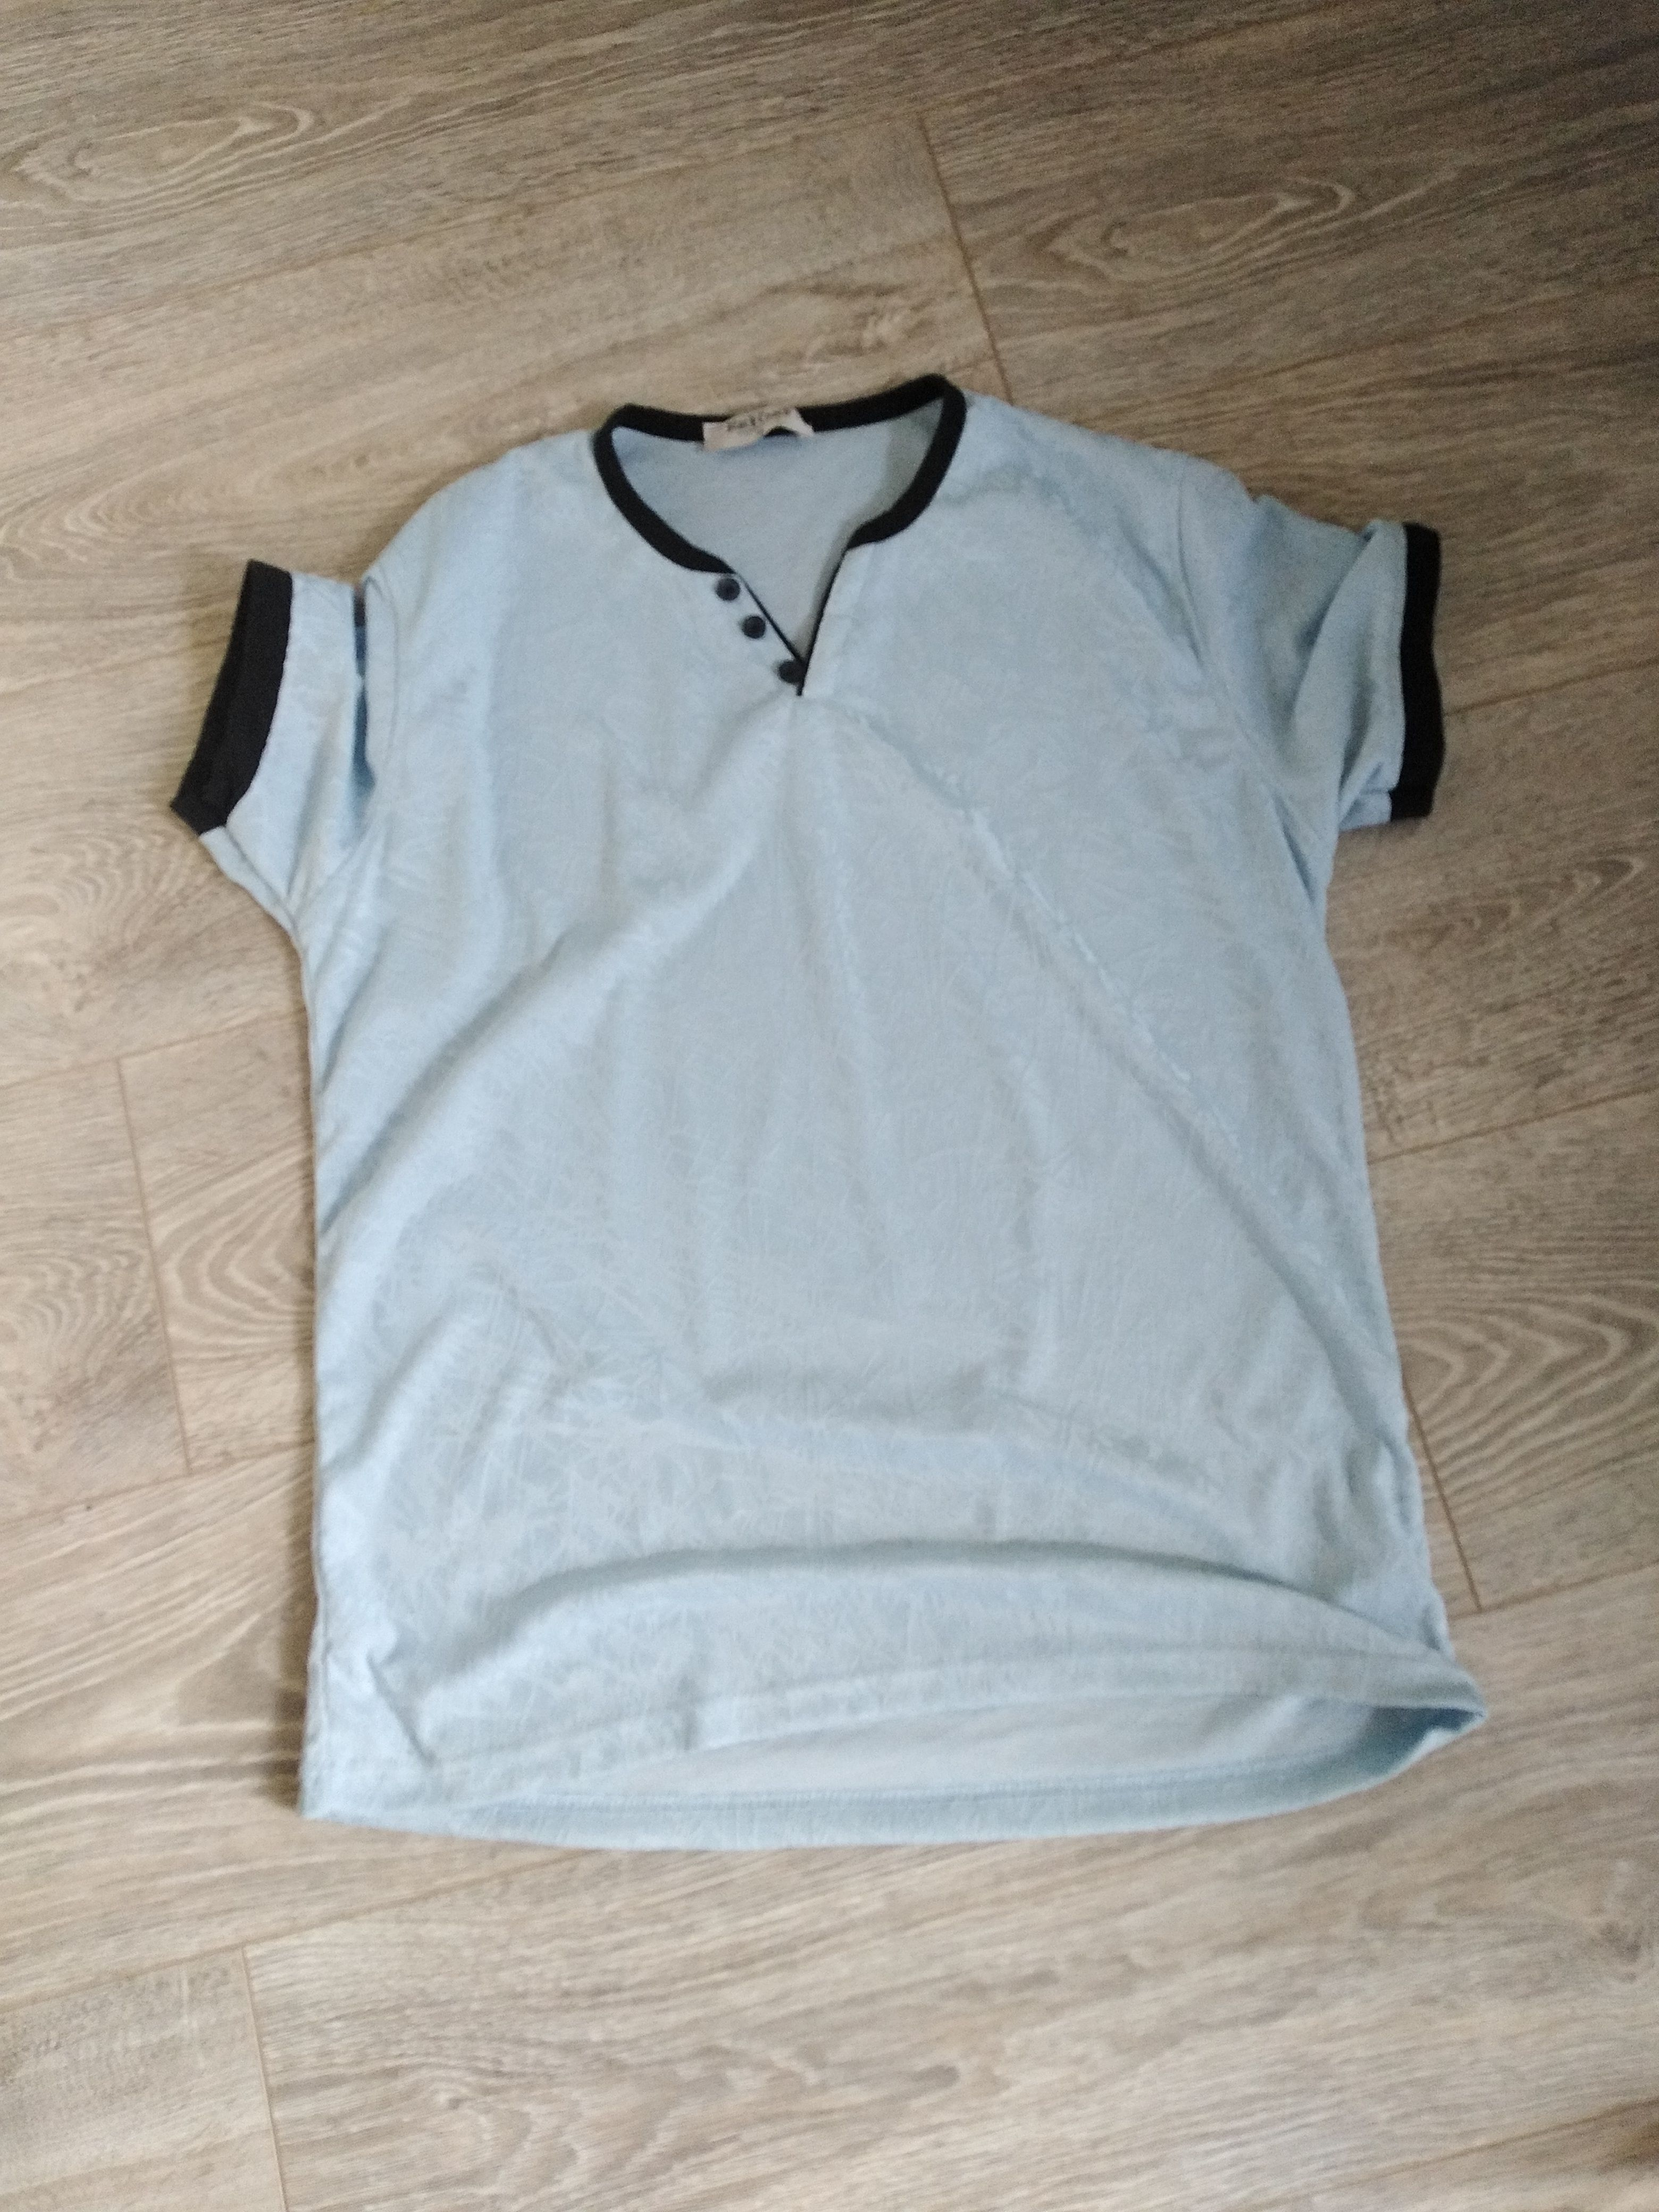clothes: (141, 374, 1488, 1810)
